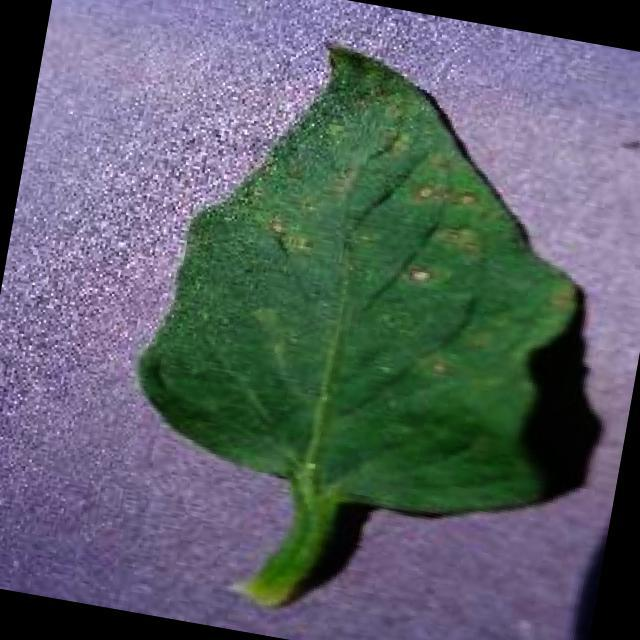Tomato Septoria spot leaf: (117, 8, 621, 538)
